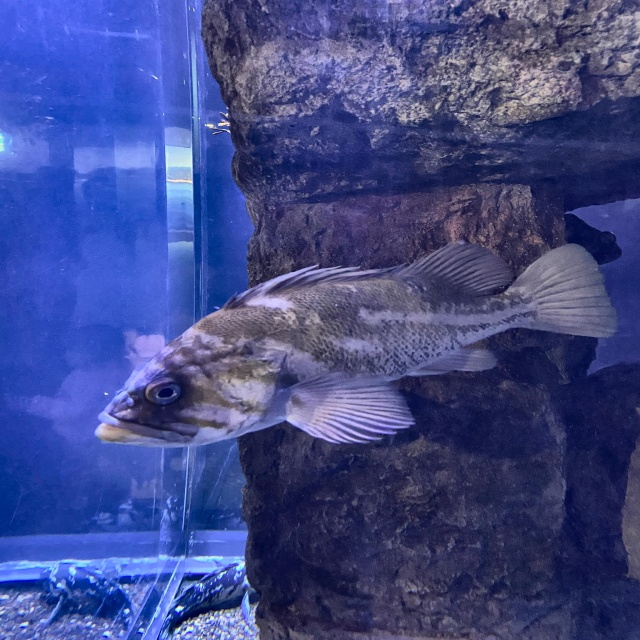fish: (76, 238, 607, 443)
